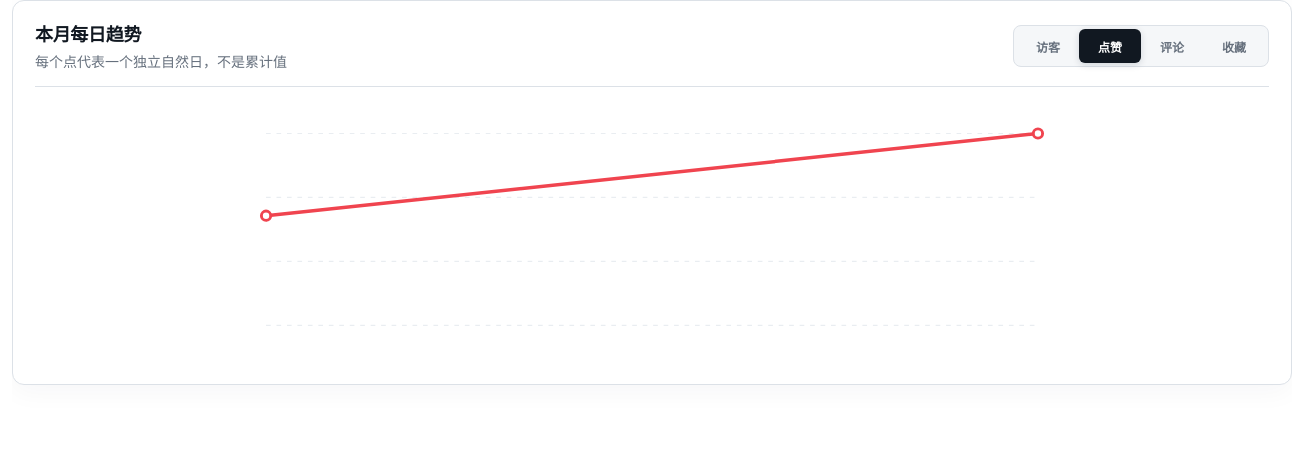
Test case: DailyTrendExplorer › switches the visible and accessible series without changing the daily rows
Check: the picture named "点赞每日趋势图" is shown, box [35,86,1269,366]
Click the button "评论" at (1172, 46), box [1141,29,1203,63]
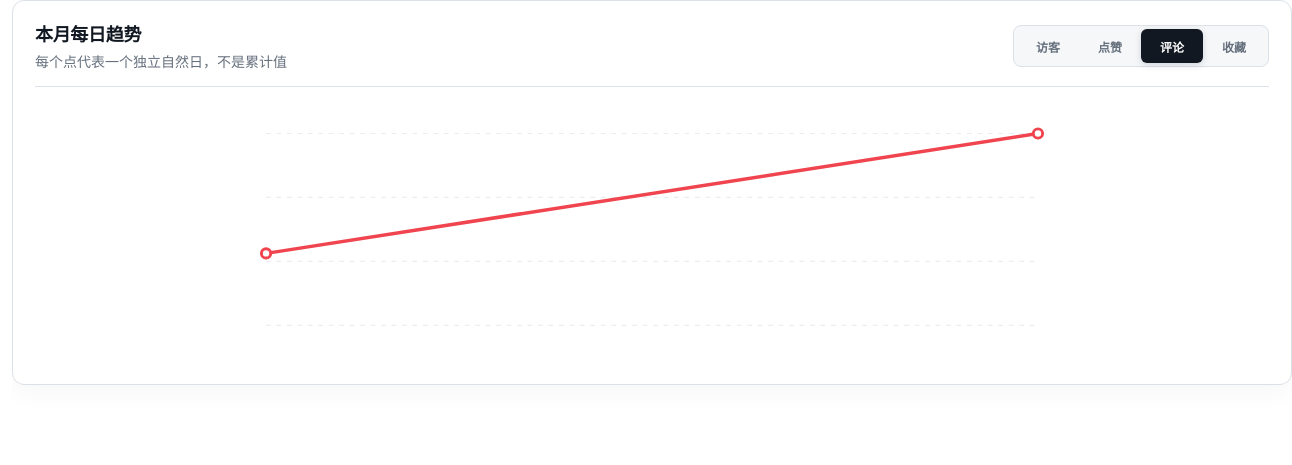
Check: the picture named "评论每日趋势图" is shown, box [35,86,1269,366]
